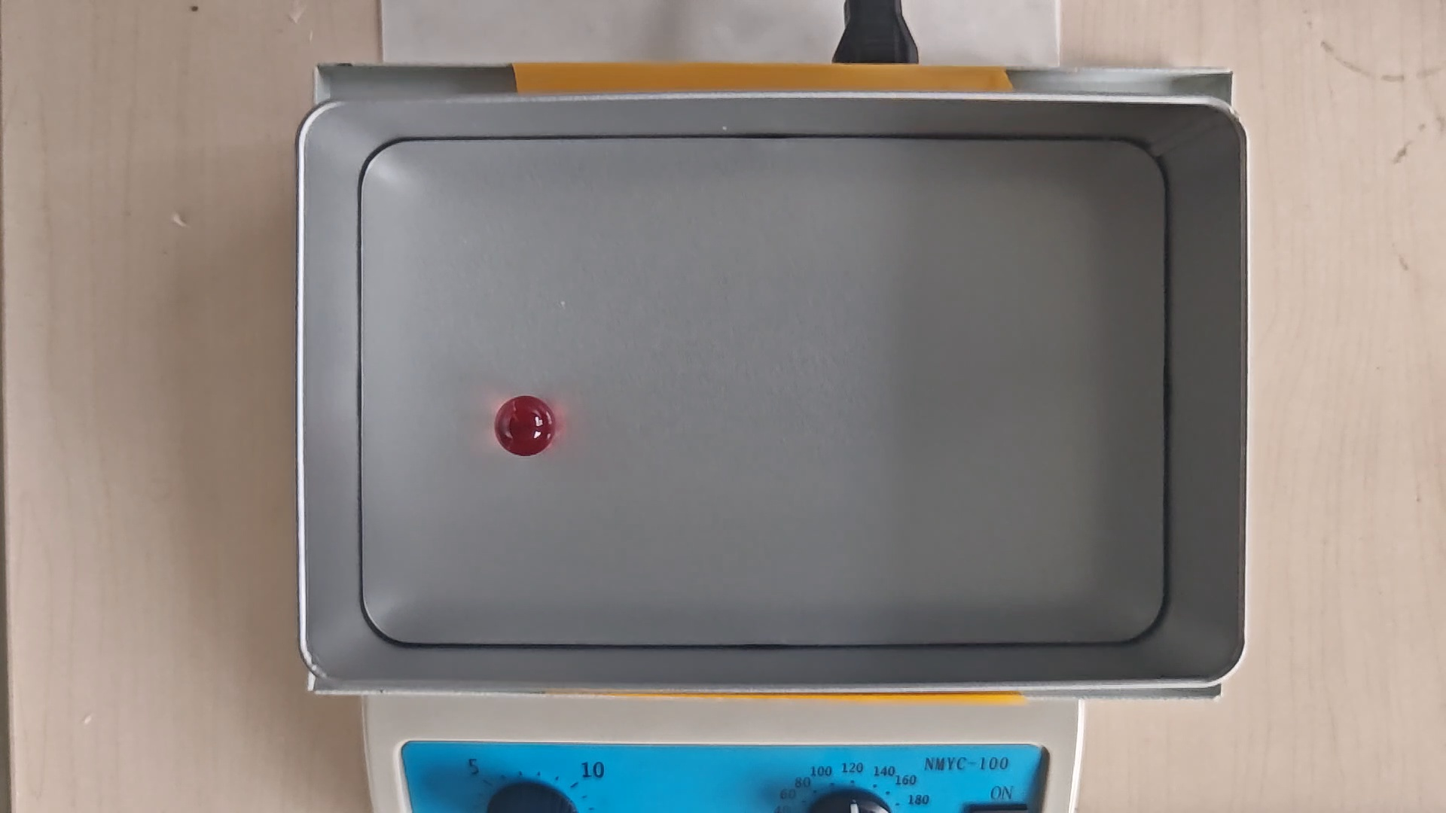ball: (494, 396, 556, 457)
container: (359, 137, 1167, 644)
